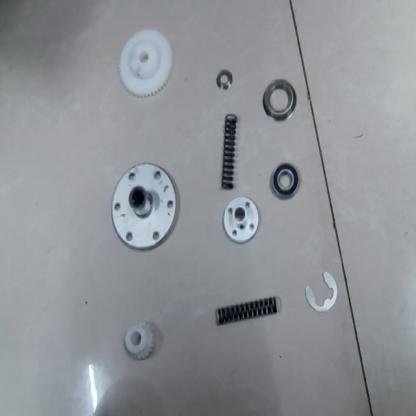FOD: (108, 158, 177, 256), (115, 26, 176, 104), (211, 292, 280, 329), (256, 74, 300, 124), (302, 268, 344, 318), (221, 197, 259, 242), (121, 320, 155, 360), (266, 166, 301, 201), (220, 113, 236, 189), (215, 69, 232, 93)
